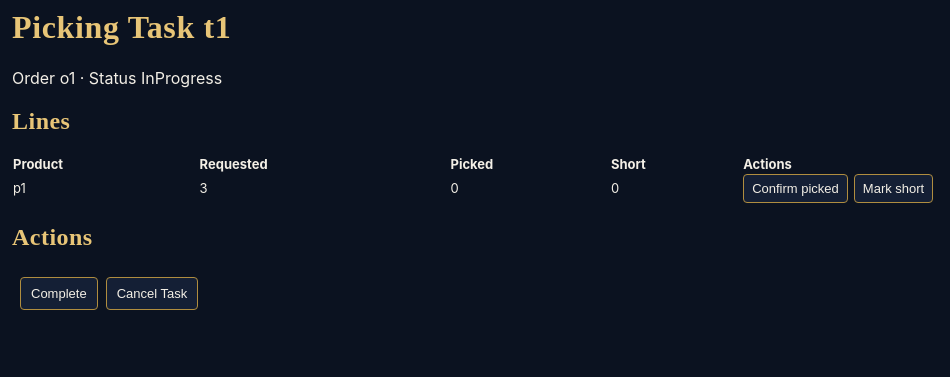
Test: Picking detail lifecycle actions (Sprint 59B) › shows the backend's rejection message on failure
Click the button "Cancel Task". click: x=152, y=293
box: 106,276 -> 198,310
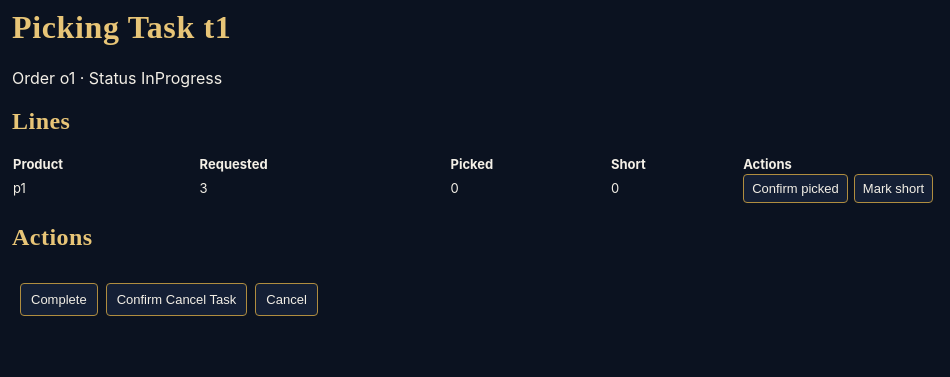
Click the button "Confirm Cancel Task". click: x=176, y=299
box: 106,282 -> 247,316
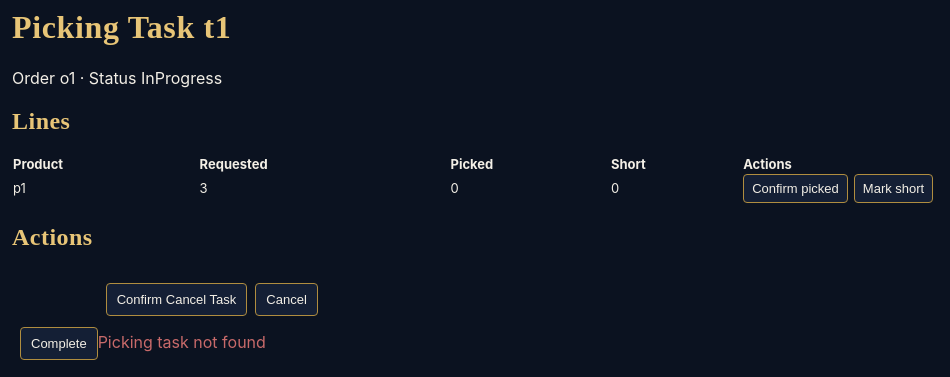
Now the message reads "Picking task not found", box 98,332 -> 266,352
